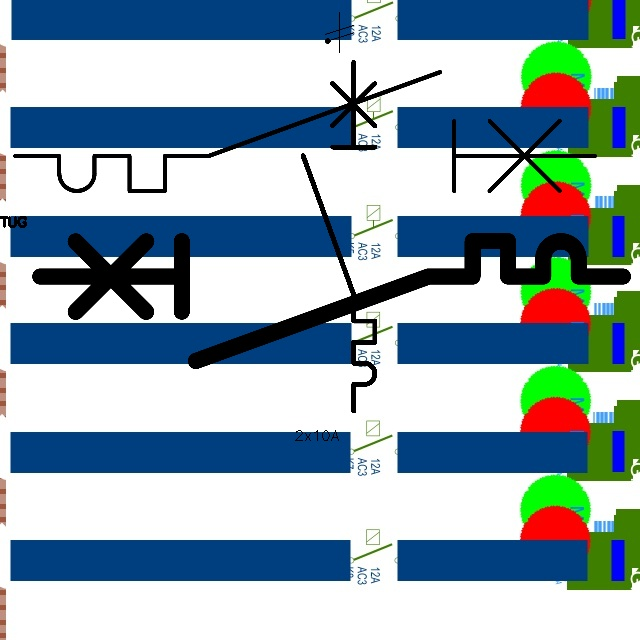interruptor_termomagnetico: (25, 226, 638, 376), (0, 57, 610, 206), (294, 53, 384, 419)
